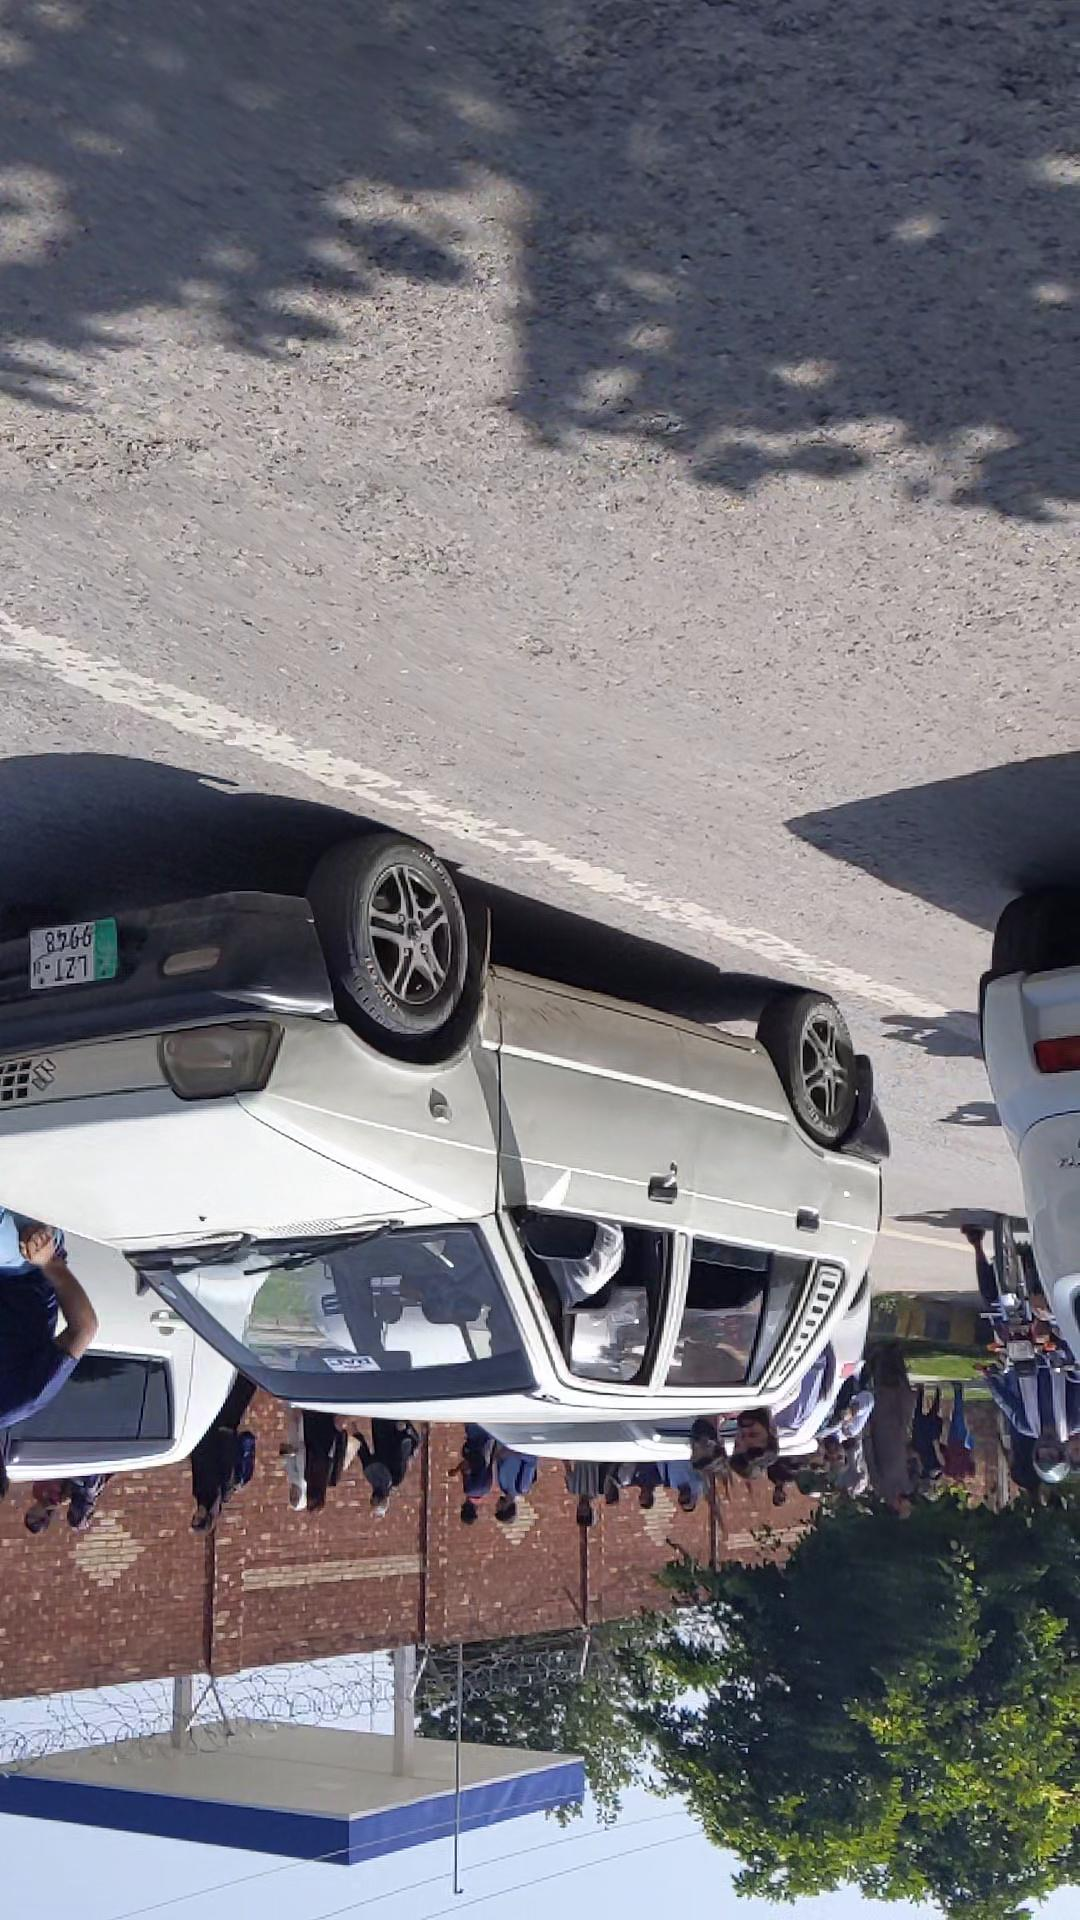windshield: (521, 516, 961, 709)
